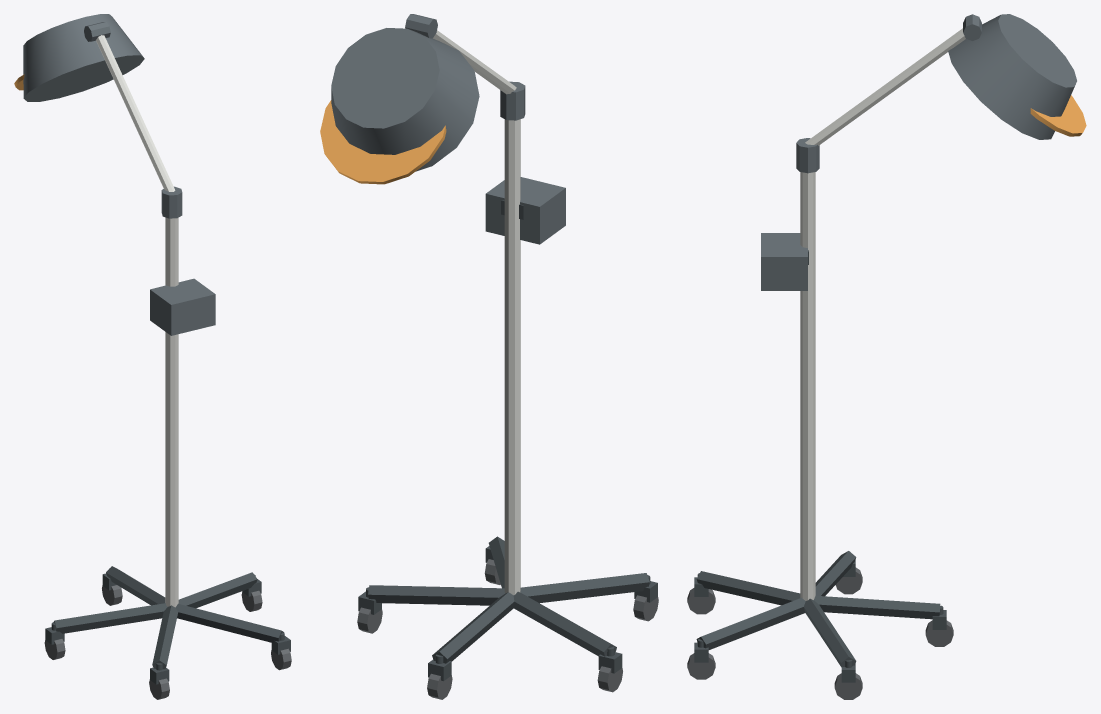
File: infrared_lamp.fbx
3 views of the same model, side by side, from view 1: azimuth 30°, elevation 25°; view 2: azimuth 150°, elevation 25°; view 3: azimuth 270°, elevation 25° (orthographic). The views are drawn at different scales.
Parts seen in each view (by area): view 1: infrared_lamp; view 2: infrared_lamp; view 3: infrared_lamp.
Boxes of the visible parts, x1=… form: infrared_lamp: x1=14, y1=14, x2=291, y2=699; infrared_lamp: x1=320, y1=14, x2=658, y2=699; infrared_lamp: x1=687, y1=14, x2=1086, y2=699.
Size of the model in its own units: 56.76 by 147 by 84.92.
